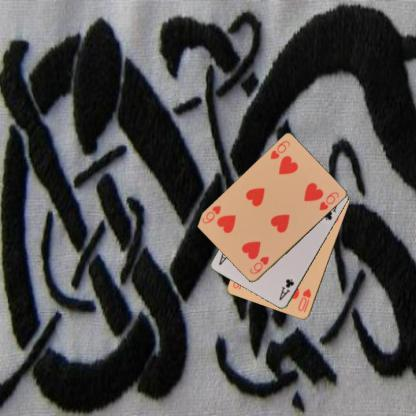10h: (295, 286, 313, 314)
6h: (268, 138, 291, 161), (248, 254, 270, 276)
Ac: (276, 276, 295, 302)
